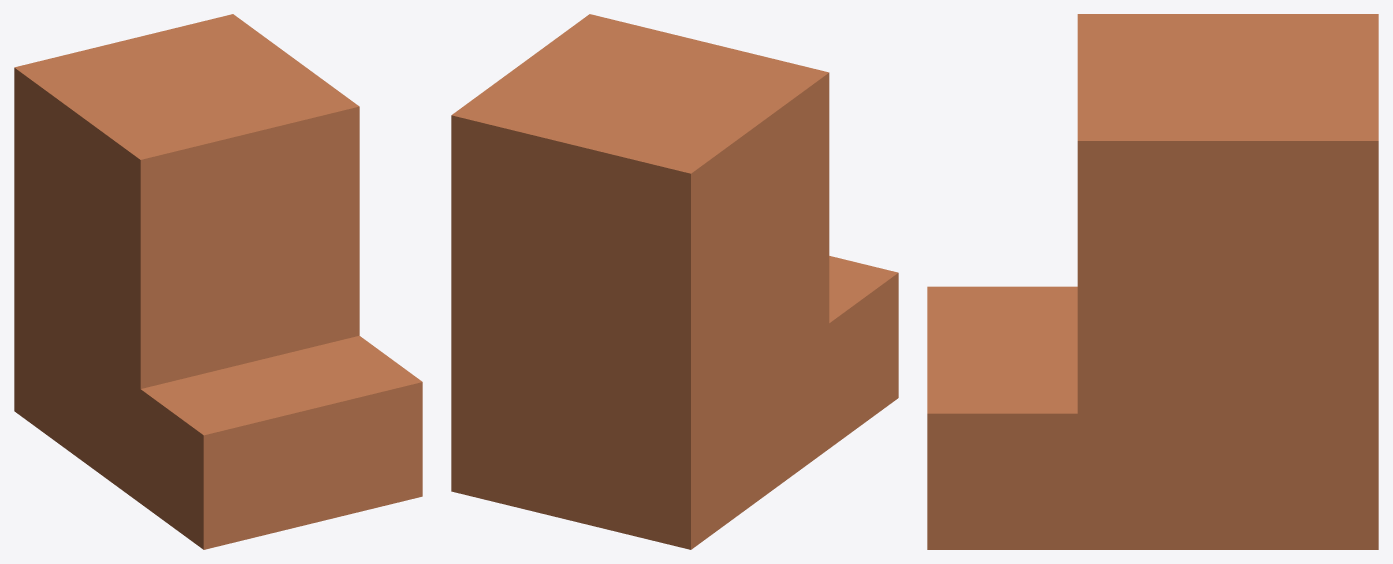
Rendered from LowBoy-1.obj.
The picture shows the model from 3 angles, left to right: view 1: azimuth 30°, elevation 25°; view 2: azimuth 150°, elevation 25°; view 3: azimuth 270°, elevation 25°; orthographic projection. The views are drawn at different scales.
Visible parts, largest first — view 1: LowBoy-1; view 2: LowBoy-1; view 3: LowBoy-1.
Boxes of the visible parts, bbox=[...] form: LowBoy-1: bbox=[14, 14, 422, 549]; LowBoy-1: bbox=[451, 14, 898, 549]; LowBoy-1: bbox=[927, 14, 1378, 549].
Bounding box in the file's own units: 2 × 3 × 3.
1 material, 1 textured.
